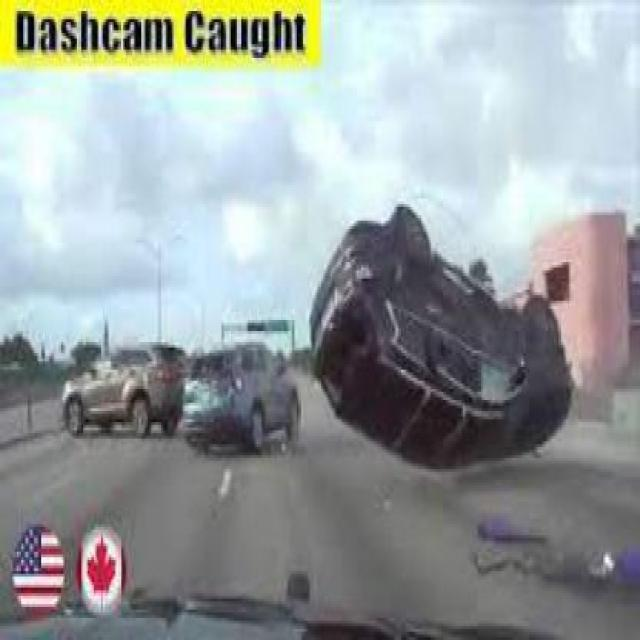accident: (304, 188, 578, 472), (60, 326, 306, 460)
